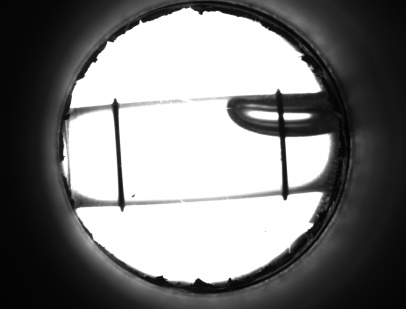line: (109, 120, 128, 194), (275, 143, 293, 182)
